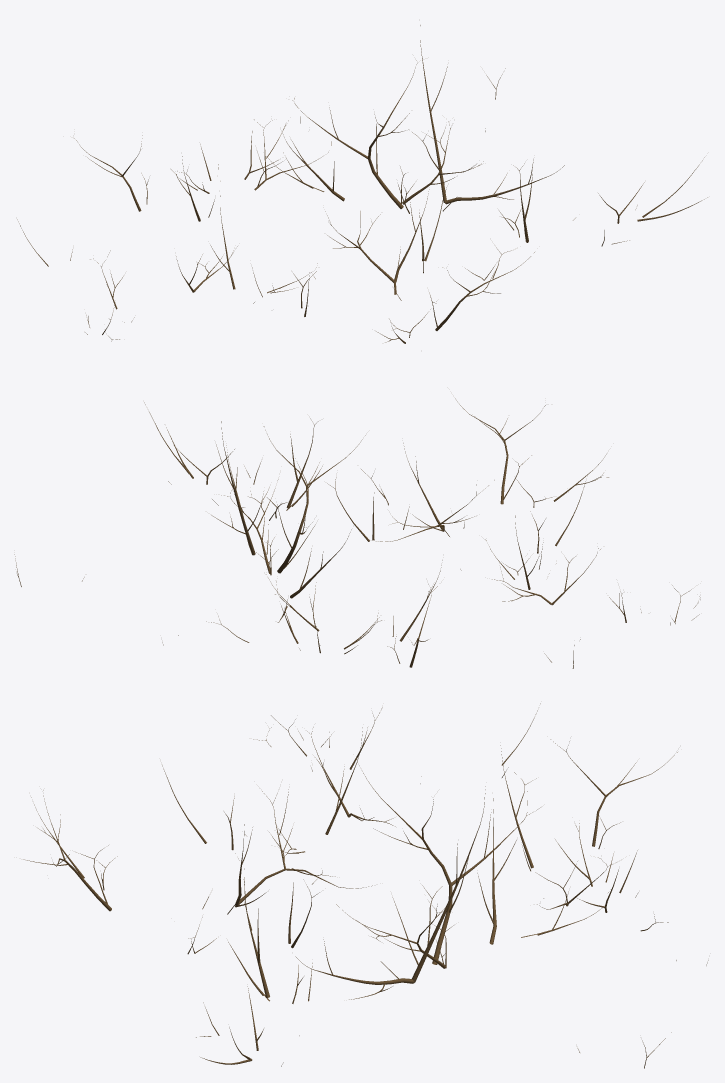
The model's file is Tree_Trunk_Canopy.fbx.
The picture shows the model from 3 angles, top to bottom: view 1: azimuth 30°, elevation 25°; view 2: azimuth 150°, elevation 25°; view 3: azimuth 270°, elevation 25°; orthographic projection. The views are drawn at different scales.
Visible parts, largest first — view 1: Trunk_Canopy; view 2: Trunk_Canopy; view 3: Trunk_Canopy.
Part boxes in pixels (box(x1,y1,x2,y2)): Trunk_Canopy: box(17, 25, 707, 343); Trunk_Canopy: box(14, 398, 700, 668); Trunk_Canopy: box(23, 703, 708, 1068).
Bounding box in the file's own units: 14.92 × 4.12 × 12.12.
